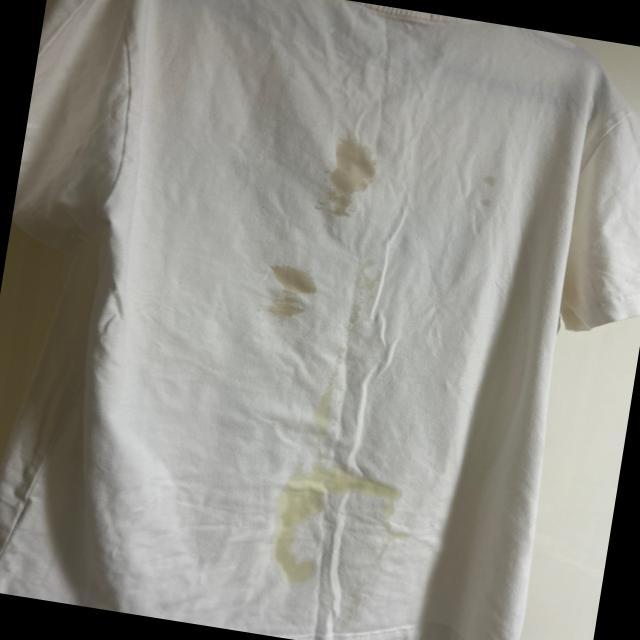stain: (298, 459, 412, 508), (322, 133, 378, 220), (262, 523, 326, 594), (260, 258, 318, 322), (269, 483, 329, 532), (299, 385, 342, 437), (470, 166, 504, 212), (353, 255, 382, 302)
